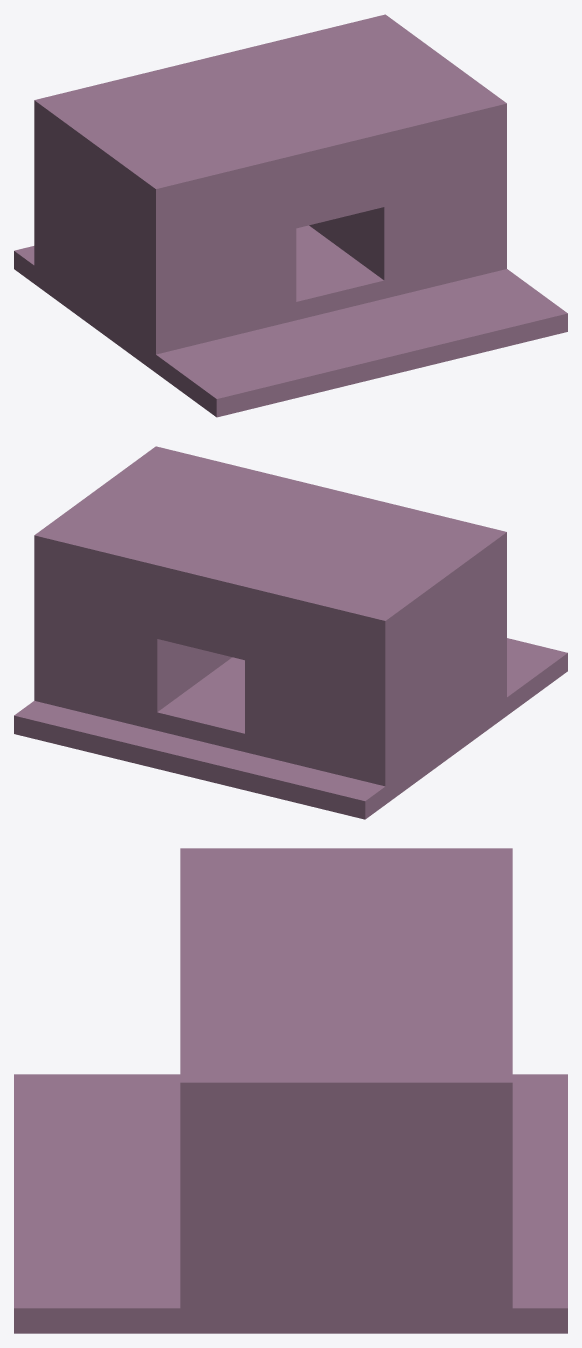
File: alien-biosphere-burrow-bank-9cfd8459__22773.glb
The picture shows the model from 3 angles, top to bottom: view 1: azimuth 30°, elevation 25°; view 2: azimuth 150°, elevation 25°; view 3: azimuth 270°, elevation 25°; orthographic projection. The views are drawn at different scales.
Visible parts, largest first — view 1: burrow-bank; view 2: burrow-bank; view 3: burrow-bank.
Boxes of the visible parts, box(x1,y1,x2,y2) form: burrow-bank: box(14, 14, 567, 417); burrow-bank: box(14, 446, 567, 819); burrow-bank: box(14, 848, 567, 1333).
Size of the model in its own units: 4 by 2 by 4.
